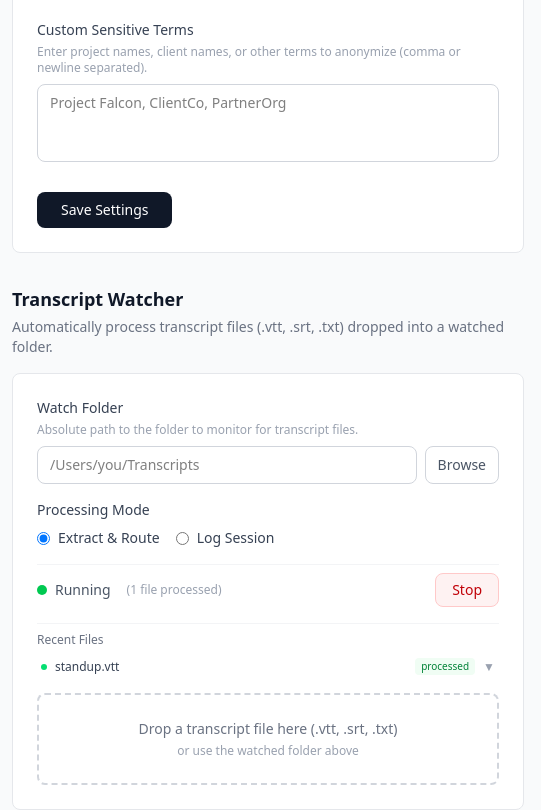
it: Settings — Transcript Watcher › expands a recent file to show suggestions
(page scrolled)
// Click to expand
Click the text "standup.vtt" at (87, 666), box x1=55 y1=658 x2=119 y2=675
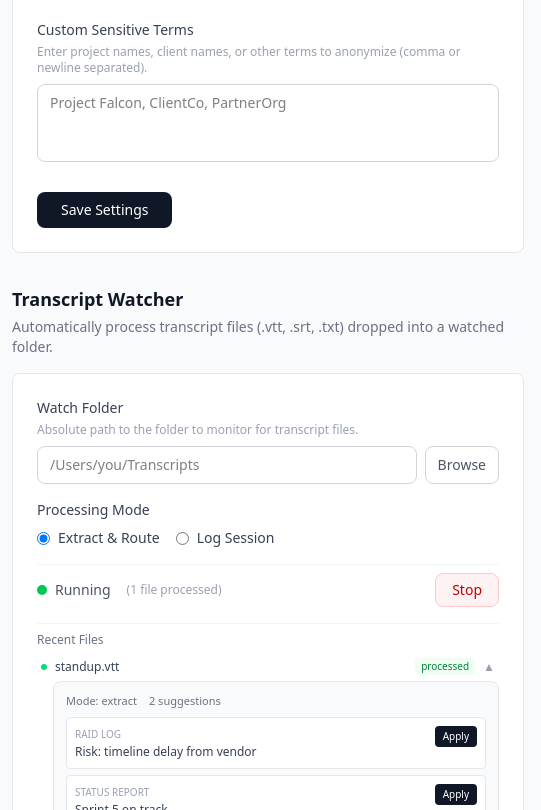
Check: the text "raid log" is shown, box x1=75 y1=727 x2=121 y2=741
Check: the text "status report" is shown, box x1=75 y1=785 x2=149 y2=799
